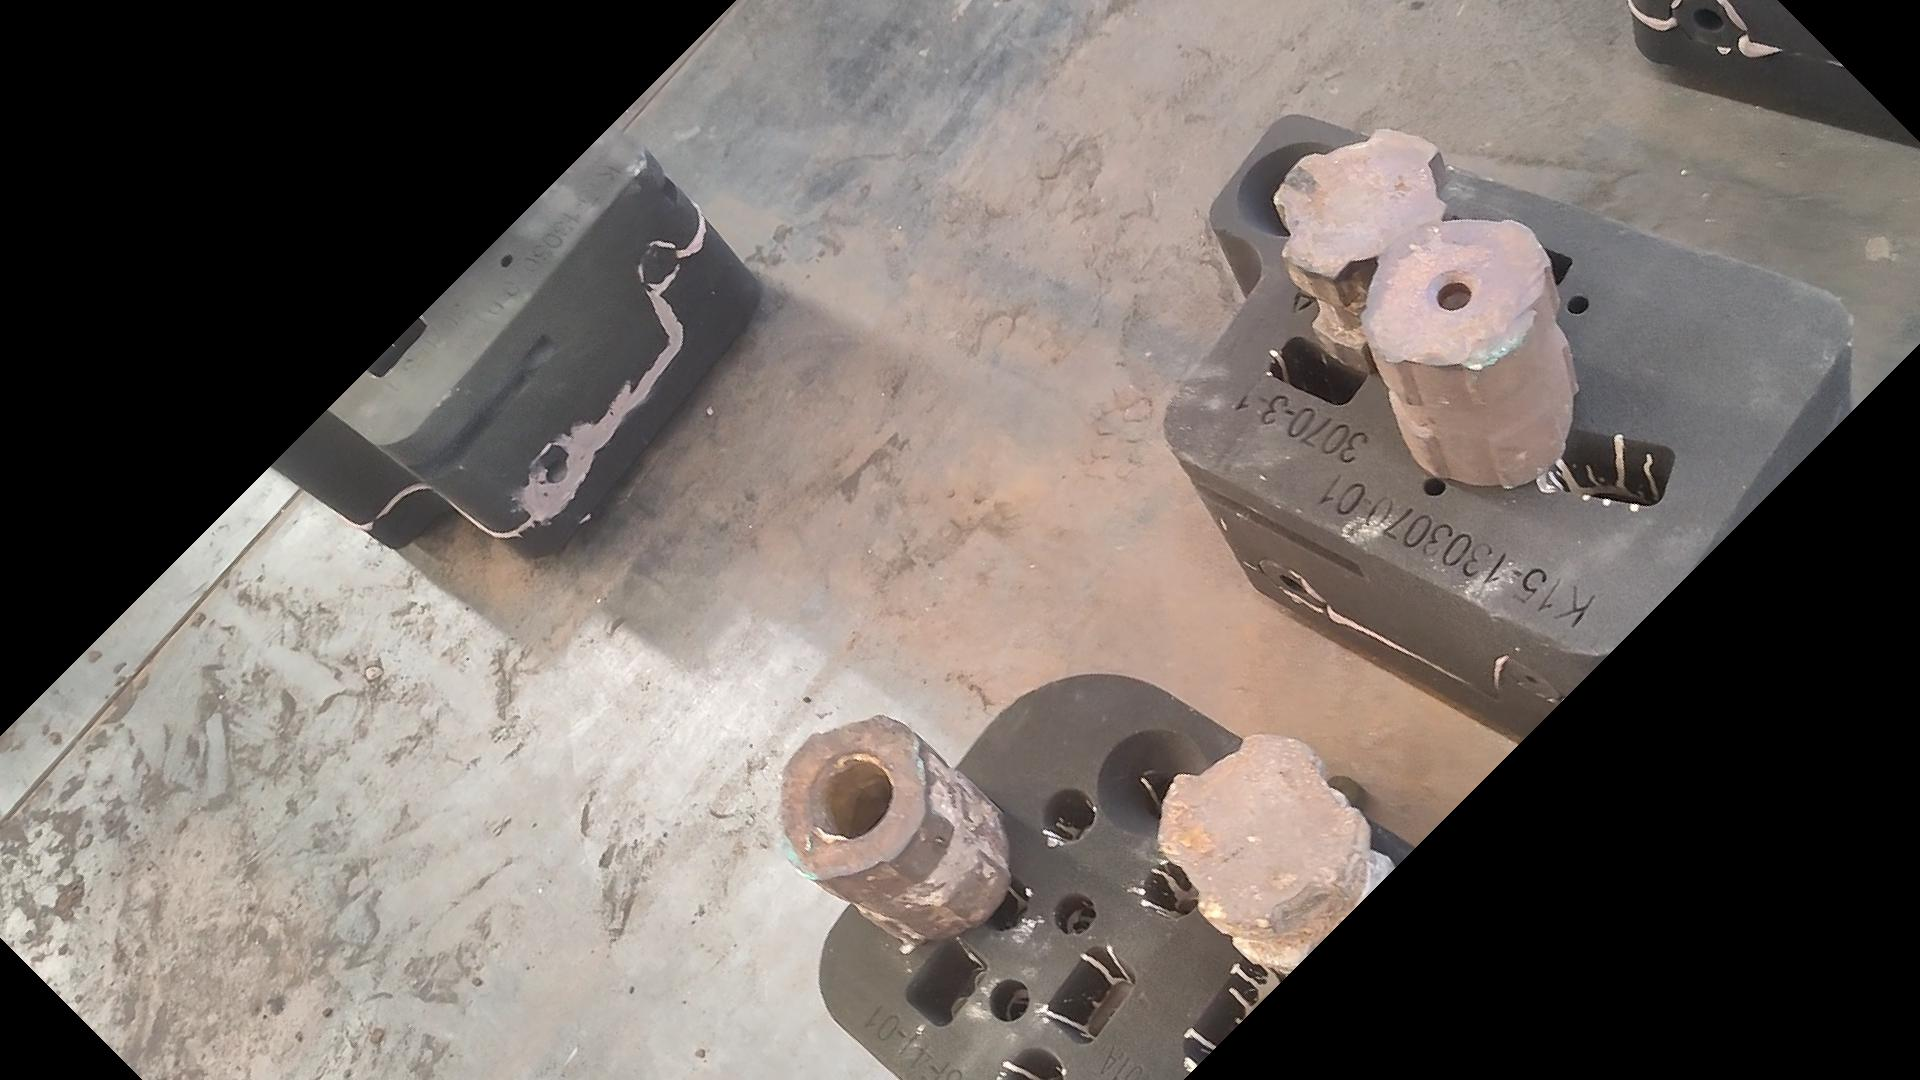pouring hole: (1238, 141, 1366, 237), (1096, 731, 1211, 837)
